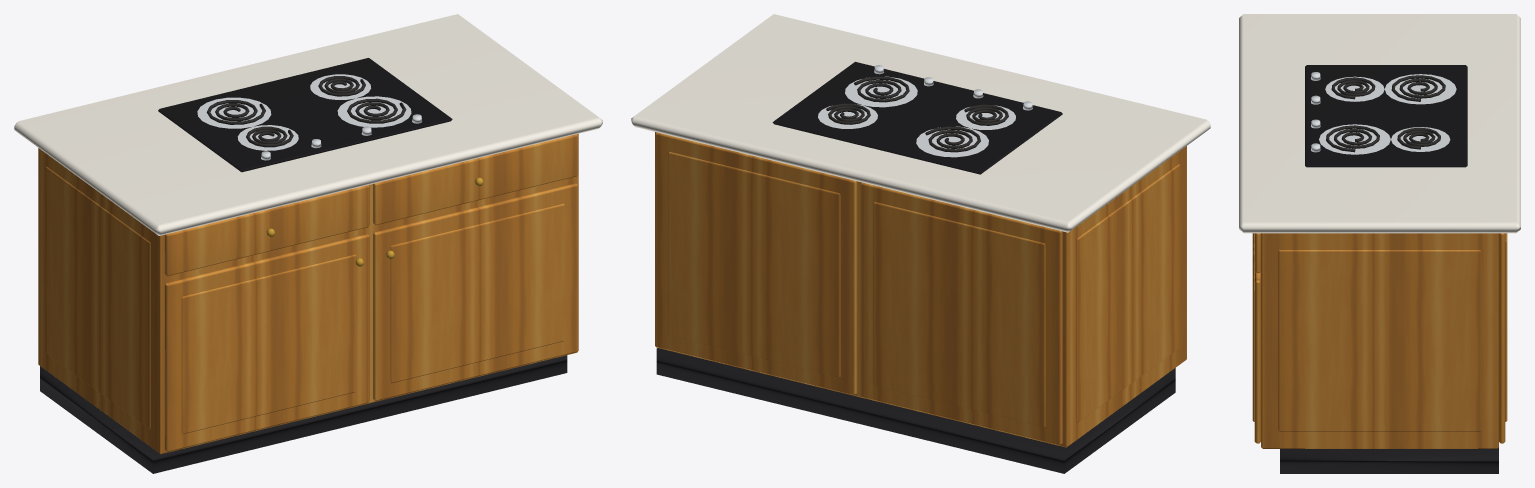
Rendered from kitchen_island_90s.glb.
The picture shows the model from 3 angles, left to right: view 1: azimuth 30°, elevation 25°; view 2: azimuth 150°, elevation 25°; view 3: azimuth 270°, elevation 25°; orthographic projection. The views are drawn at different scales.
Parts seen in each view (by area): view 1: model; view 2: model; view 3: model.
Boxes of the visible parts, x1,y1,x2,y2 form: model: [14, 14, 602, 473]; model: [631, 14, 1210, 473]; model: [1239, 14, 1520, 473].
Bounding box in the file's own units: 1.6 × 0.94 × 0.9.
Materials: 7 (1 with a texture image).
